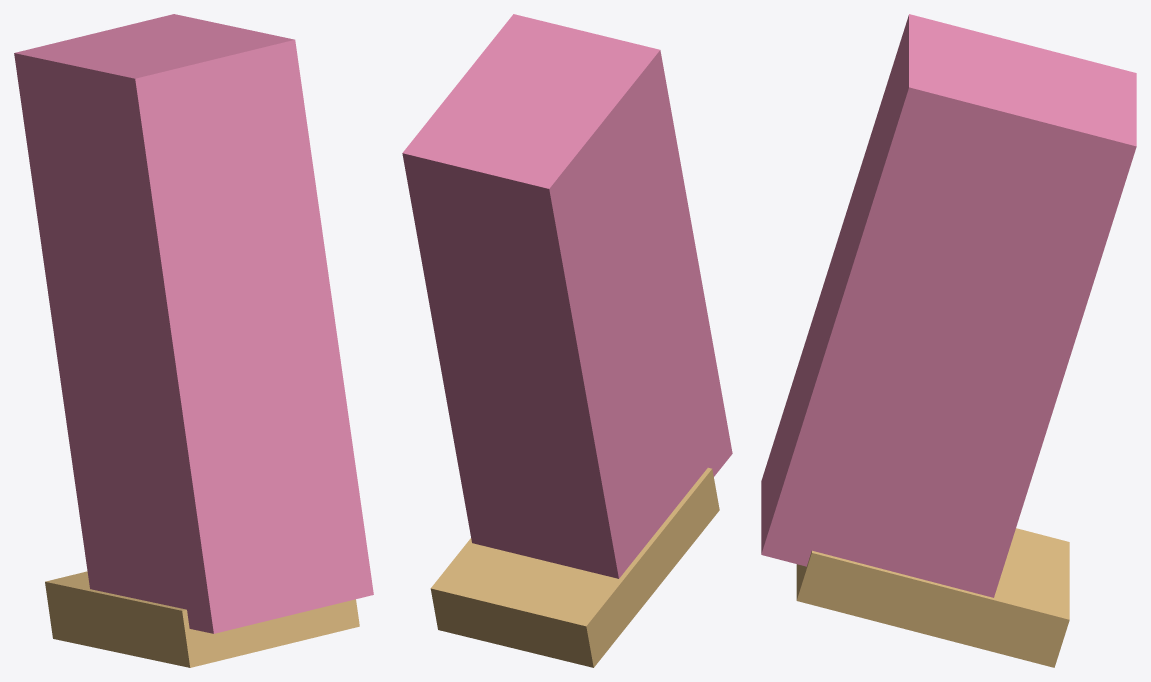
The model's file is AssaultGrip.obj.
3 views of the same model, side by side, from view 1: azimuth 30°, elevation 25°; view 2: azimuth 150°, elevation 25°; view 3: azimuth 270°, elevation 25° (orthographic). The views are drawn at different scales.
Visible parts, largest first — view 1: AssaultGrip_Body, AssaultGrip_Detail; view 2: AssaultGrip_Body, AssaultGrip_Detail; view 3: AssaultGrip_Body, AssaultGrip_Detail.
Boxes of the visible parts, x1=… form: AssaultGrip_Body: x1=14, y1=14, x2=373, y2=633; AssaultGrip_Detail: x1=45, y1=571, x2=359, y2=667; AssaultGrip_Body: x1=402, y1=14, x2=732, y2=578; AssaultGrip_Detail: x1=430, y1=467, x2=719, y2=667; AssaultGrip_Body: x1=761, y1=14, x2=1136, y2=597; AssaultGrip_Detail: x1=796, y1=528, x2=1069, y2=667.
Bounding box in the file's own units: 0.1166 × 0.4043 × 0.2379.
